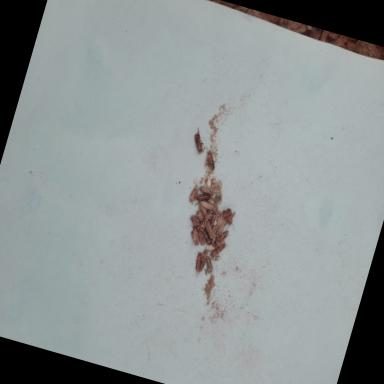pbw: (218, 206, 240, 234), (190, 126, 210, 156), (198, 146, 220, 172), (208, 240, 231, 264), (198, 206, 216, 232), (188, 250, 204, 278), (213, 226, 232, 249), (197, 246, 210, 278), (210, 180, 226, 204), (198, 230, 216, 250), (188, 226, 204, 248), (201, 221, 219, 240), (202, 256, 219, 276), (187, 182, 201, 204), (208, 208, 223, 226), (198, 199, 218, 212), (194, 190, 212, 204), (193, 208, 207, 224), (197, 202, 210, 216), (198, 185, 214, 196)
